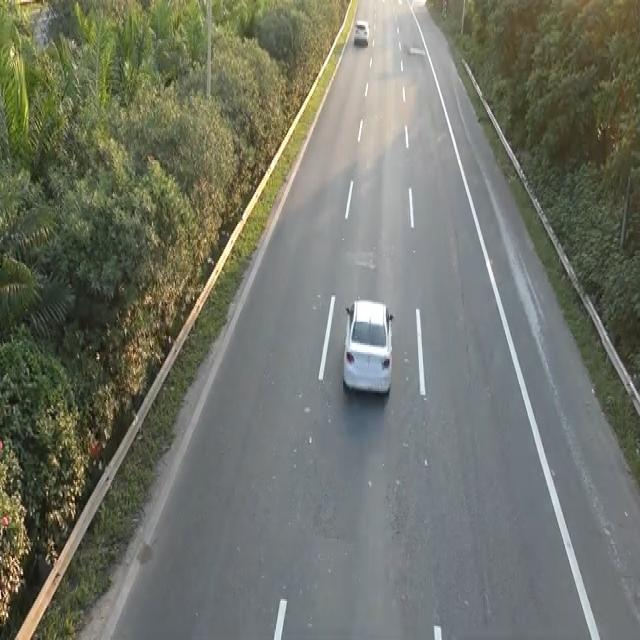bus: (340, 294, 394, 396)
car: (352, 18, 369, 46)
